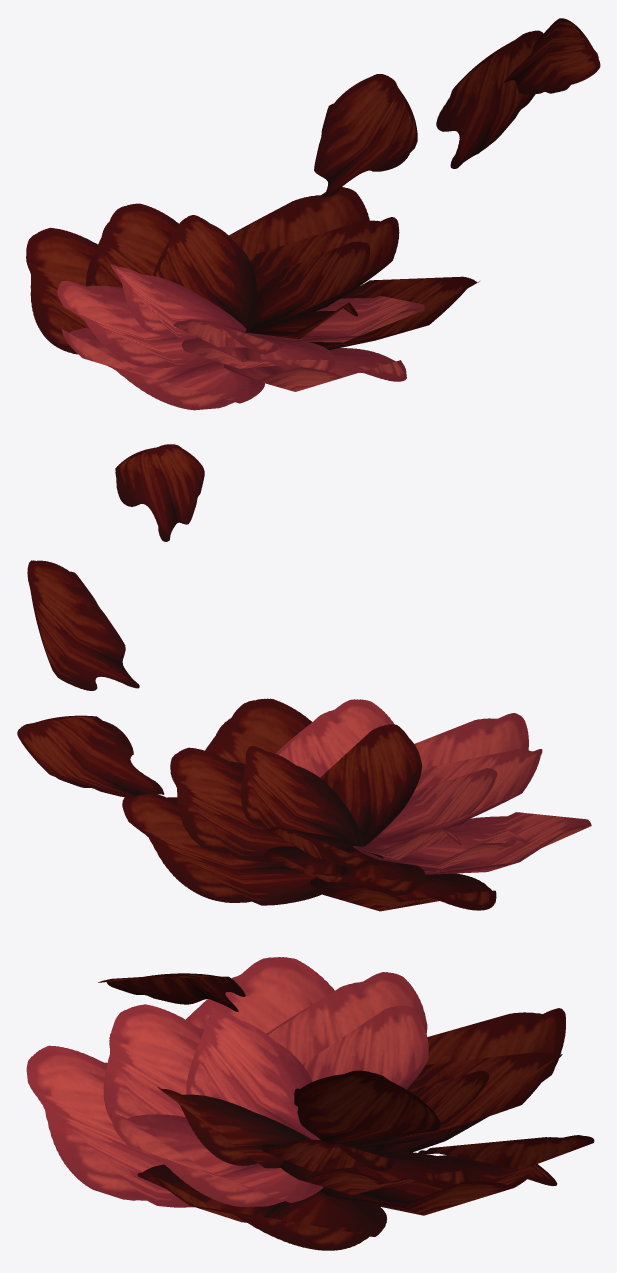
Rendered from F_Item_Flower.fbx.
3 views of the same model, one above another, from view 1: azimuth 30°, elevation 25°; view 2: azimuth 150°, elevation 25°; view 3: azimuth 270°, elevation 25° (orthographic). The views are drawn at different scales.
Visible parts, largest first — view 1: F_Item_Flower; view 2: F_Item_Flower; view 3: F_Item_Flower.
Part boxes in pixels (box(x1,y1,x2,y2)): F_Item_Flower: box(26, 18, 600, 410); F_Item_Flower: box(17, 444, 591, 911); F_Item_Flower: box(26, 957, 594, 1250).
Bounding box in the file's own units: 30.59 × 17.12 × 23.98.
